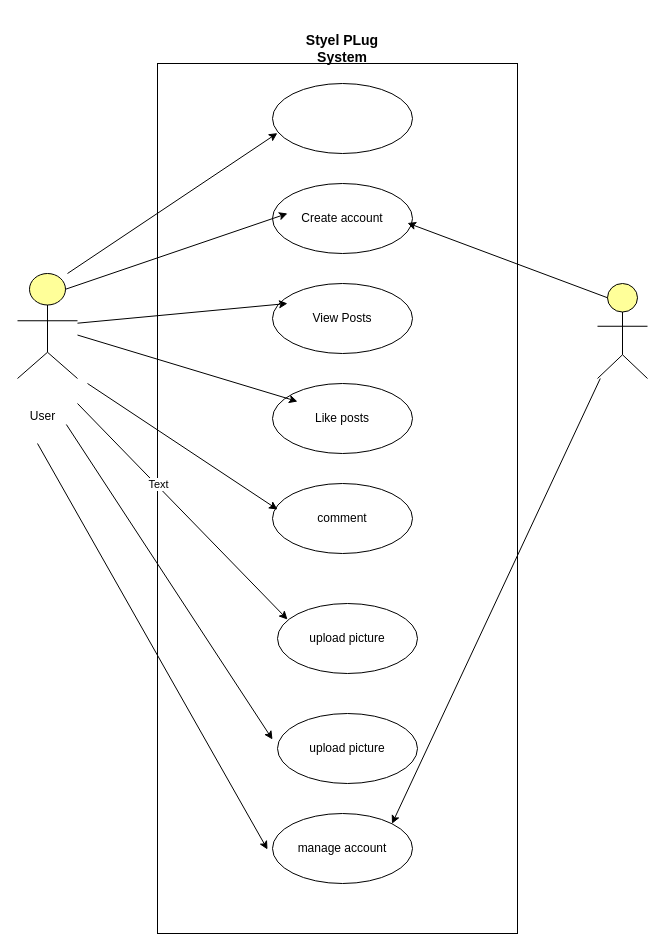
Image size: 665x951. Some labels were removed from this diagram. The shapes that lost their labels are listed below. From the top down, each one's centre as x and y in pixels, then its label:
At (342,118): "Log in".
At (622,330): "Admin".
